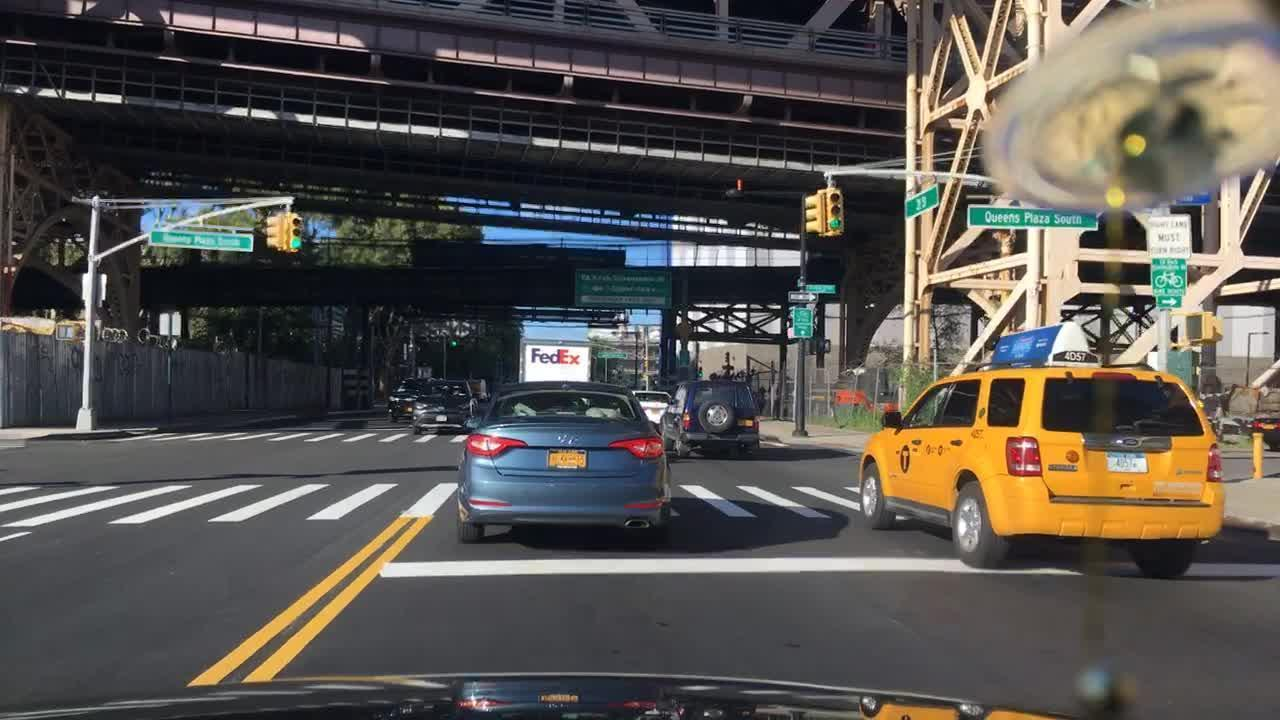Hyundai: (558, 432, 580, 446)
ford: (1115, 436, 1144, 451)
